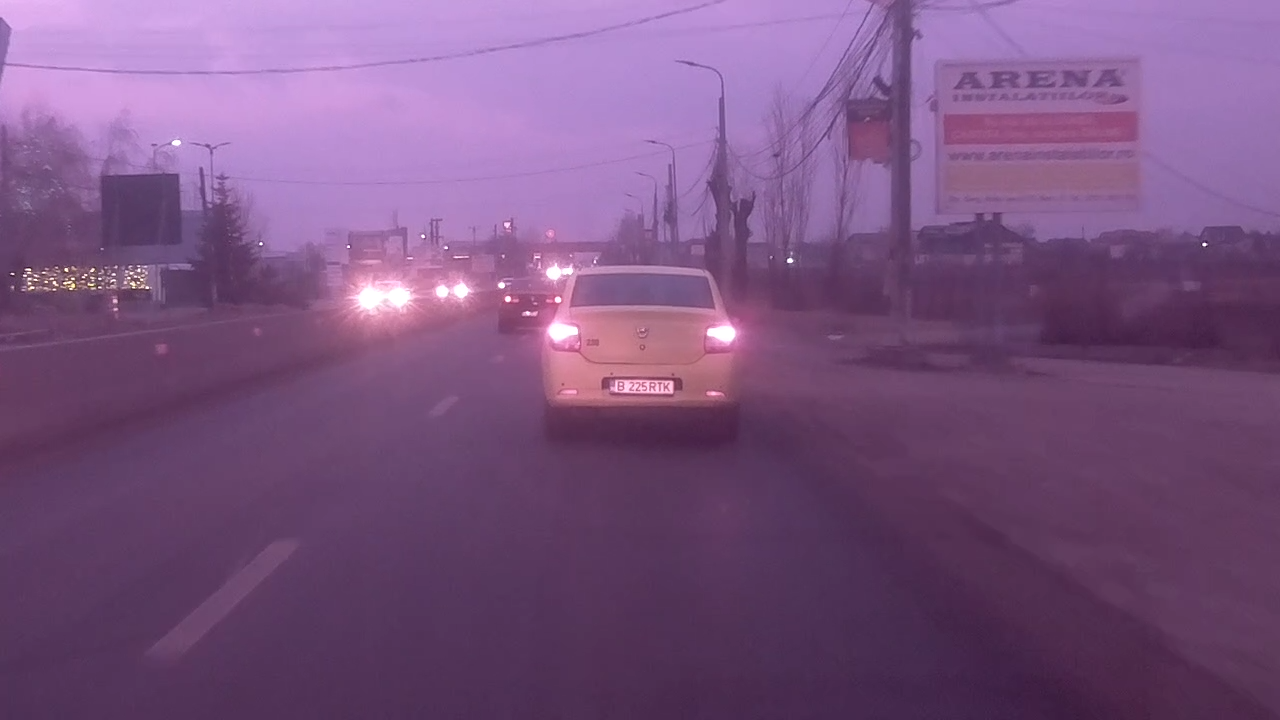license-plate: (603, 377, 677, 397)
